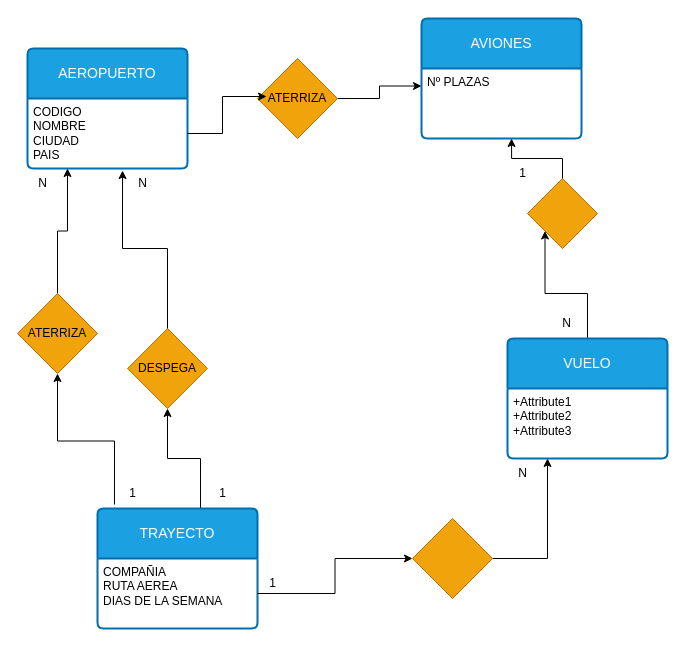
Some shapes in this 686 by 646 pixel diagram are drawn without their labels. Here are the shapes that lost their labels. From the top down, the centre of each, then its label:
At [562,213]: "TIENE".
At [452,558]: "DEPENDE".
